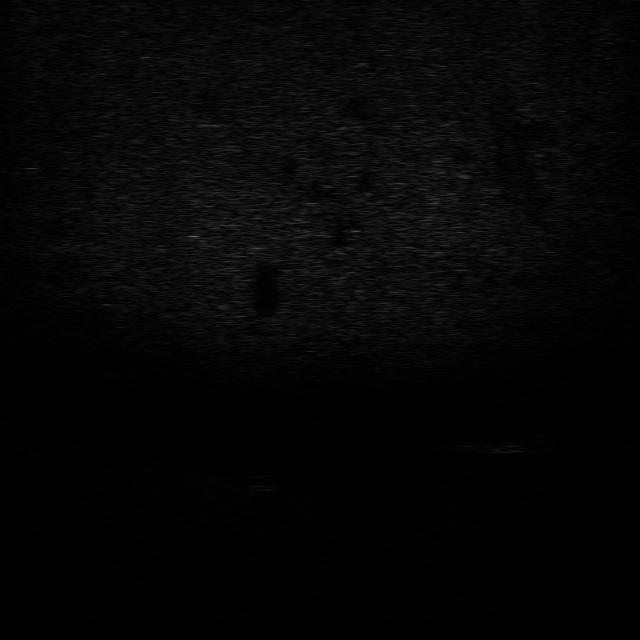ball: (241, 471, 285, 494)
human body: (443, 428, 558, 456)
